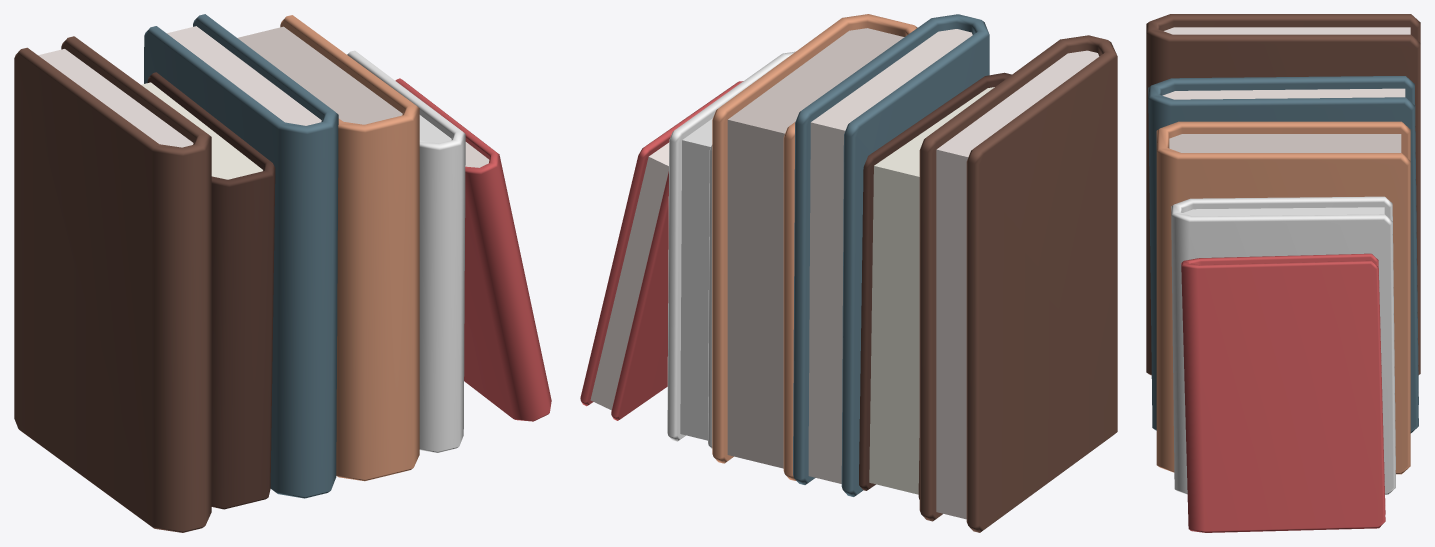
File: prop_041.fbx
3 views of the same model, side by side, from view 1: azimuth 30°, elevation 25°; view 2: azimuth 150°, elevation 25°; view 3: azimuth 270°, elevation 25° (orthographic). The views are drawn at different scales.
Parts seen in each view (by area): view 1: prop_041; view 2: prop_041; view 3: prop_041.
Part boxes in pixels (x1,y1,x2,y2): prop_041: (14,14,551,532); prop_041: (580,14,1117,532); prop_041: (1146,14,1420,532).
Bounding box in the file's own units: 47.09 × 29.53 × 40.94.
